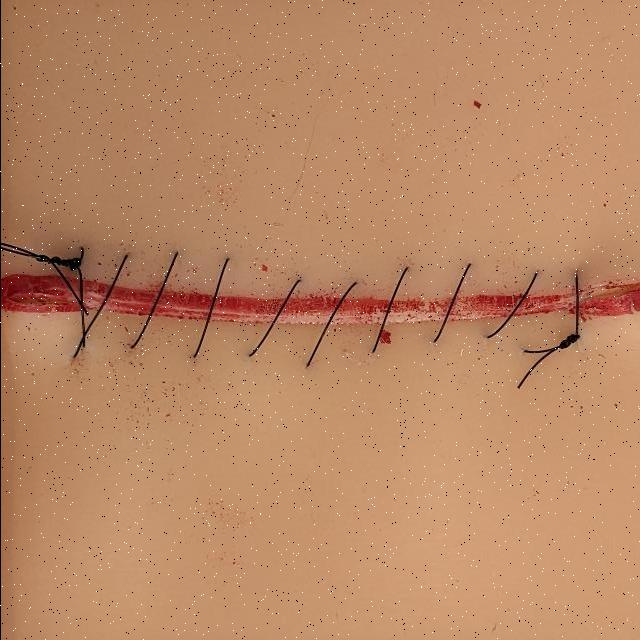suture_good: (425, 258, 478, 349), (73, 242, 88, 351), (568, 271, 585, 344)
suture_loose: (66, 245, 133, 368), (121, 245, 186, 357), (295, 275, 365, 372), (244, 269, 308, 365), (360, 257, 416, 362), (476, 266, 546, 348)
suture_tight: (187, 251, 235, 365)
